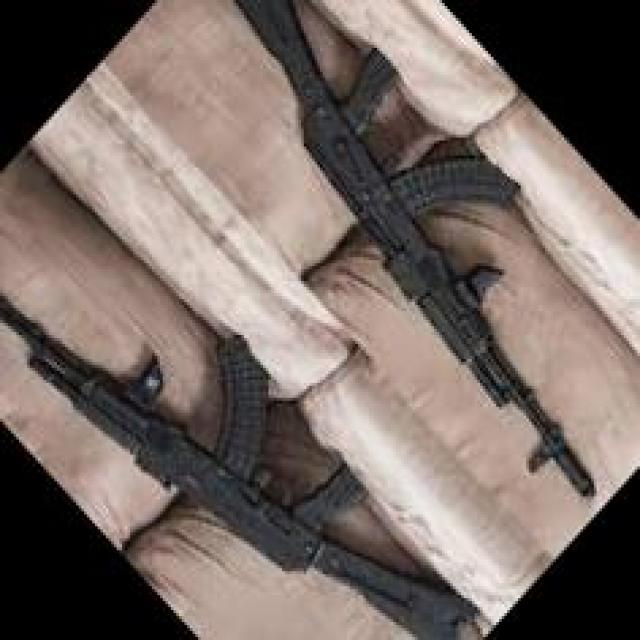weapon: (235, 0, 598, 501), (0, 298, 476, 640)
